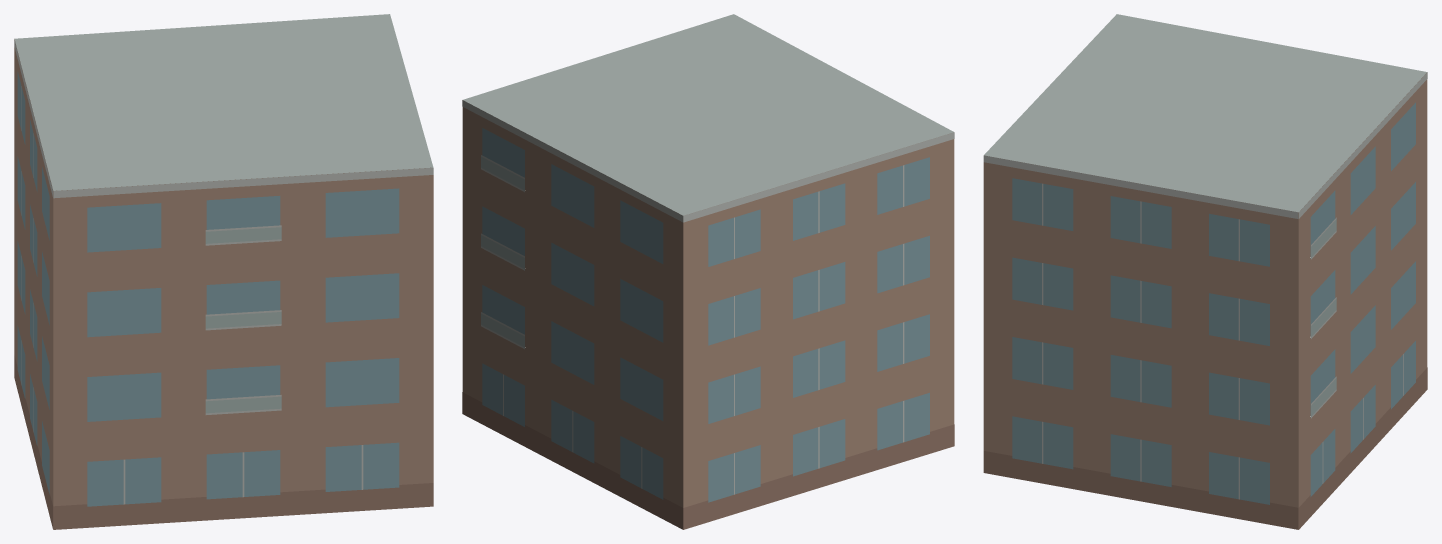
The model's file is survey-upis-32496548.glb.
The picture shows the model from 3 angles, left to right: view 1: azimuth 30°, elevation 25°; view 2: azimuth 150°, elevation 25°; view 3: azimuth 270°, elevation 25°; orthographic projection. The views are drawn at different scales.
Parts seen in each view (by area): view 1: survey-upis-32496548.tmp; view 2: survey-upis-32496548.tmp; view 3: survey-upis-32496548.tmp.
Part boxes in pixels (left/top/right/bottom): survey-upis-32496548.tmp: left=14, top=14, right=433, bottom=529; survey-upis-32496548.tmp: left=462, top=14, right=954, bottom=529; survey-upis-32496548.tmp: left=983, top=14, right=1427, bottom=529.
Bounding box in the file's own units: 15.15 × 11.3 × 14.32.
